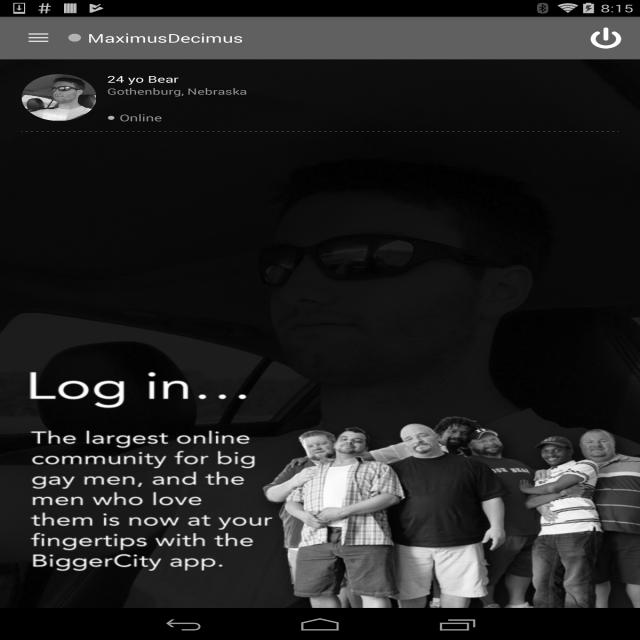ImageButton: (9, 17, 68, 59)
ImageView: (0, 59, 640, 608), (0, 346, 640, 608), (21, 74, 96, 121)
TextView: (88, 30, 243, 46), (21, 86, 161, 98), (580, 22, 632, 54), (21, 73, 93, 85), (107, 111, 162, 124)
